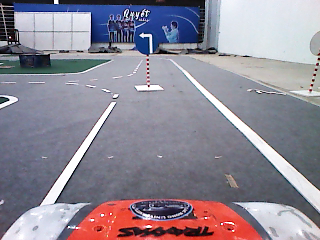turn: (134, 29, 159, 57)
